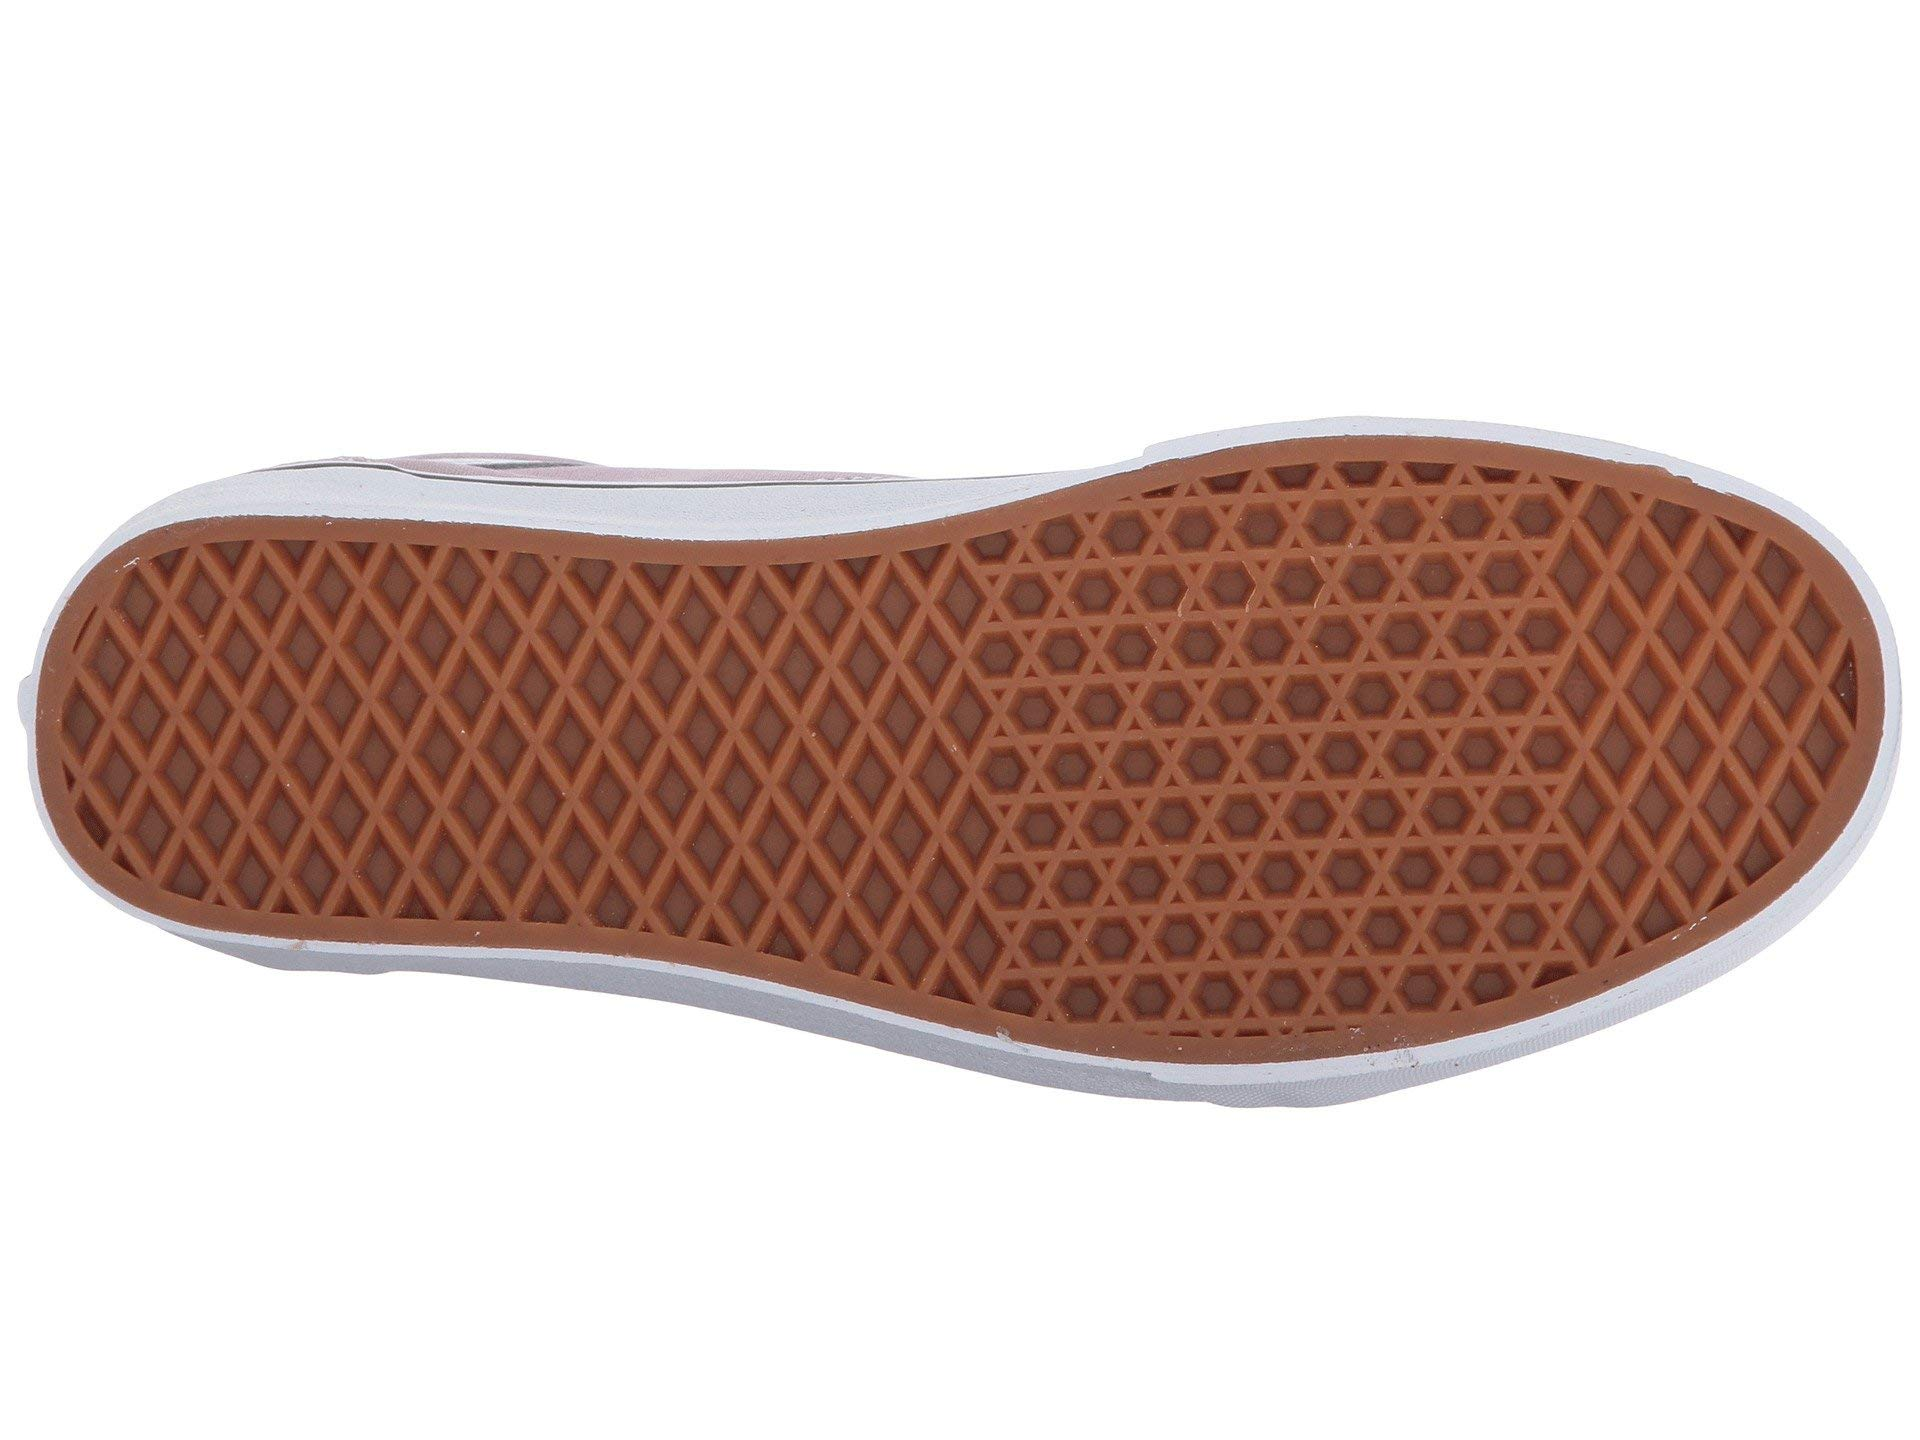polygon: (1066, 504, 1468, 970)
quad: (163, 573, 887, 886), (1739, 569, 1879, 788)
triangle: (1066, 504, 1468, 970), (1739, 569, 1879, 788)
